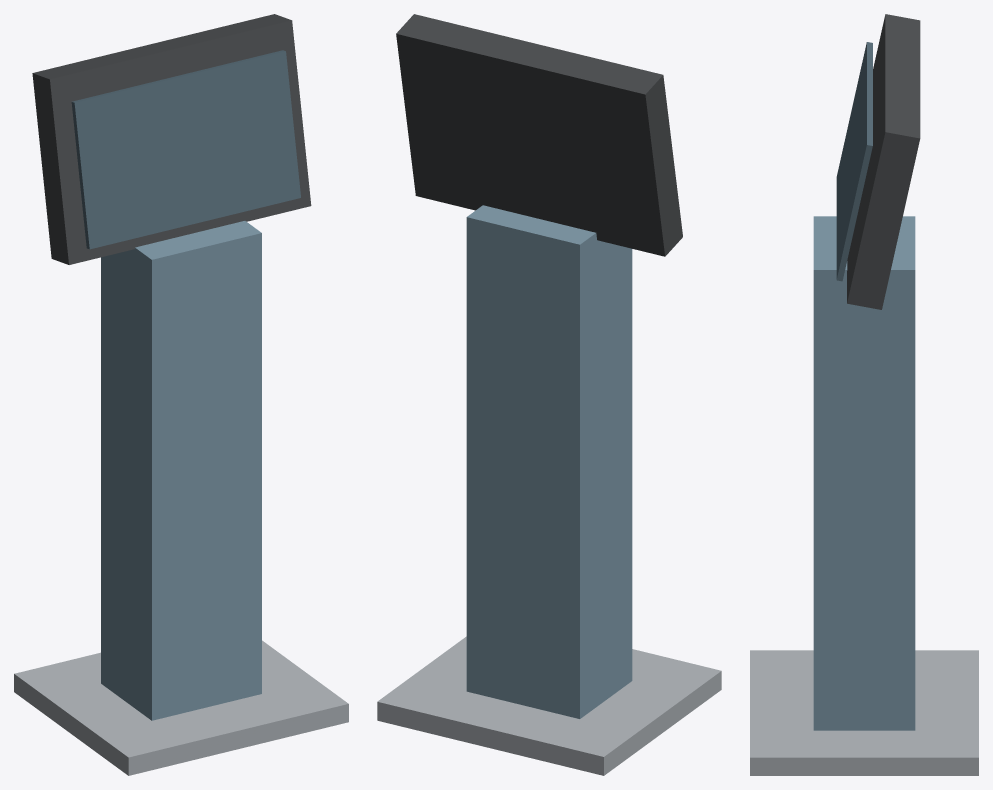
The model's file is road-car-showroom-lineup-info-kiosk-707b190c__15135.glb.
3 views of the same model, side by side, from view 1: azimuth 30°, elevation 25°; view 2: azimuth 150°, elevation 25°; view 3: azimuth 270°, elevation 25° (orthographic). The views are drawn at different scales.
Parts seen in each view (by area): view 1: info-kiosk; view 2: info-kiosk; view 3: info-kiosk.
Boxes of the visible parts, bbox=[...] form: info-kiosk: bbox=[14, 14, 348, 775]; info-kiosk: bbox=[377, 14, 721, 775]; info-kiosk: bbox=[750, 14, 978, 775].
Size of the model in its own units: 0.55 by 1.41 by 0.45.
